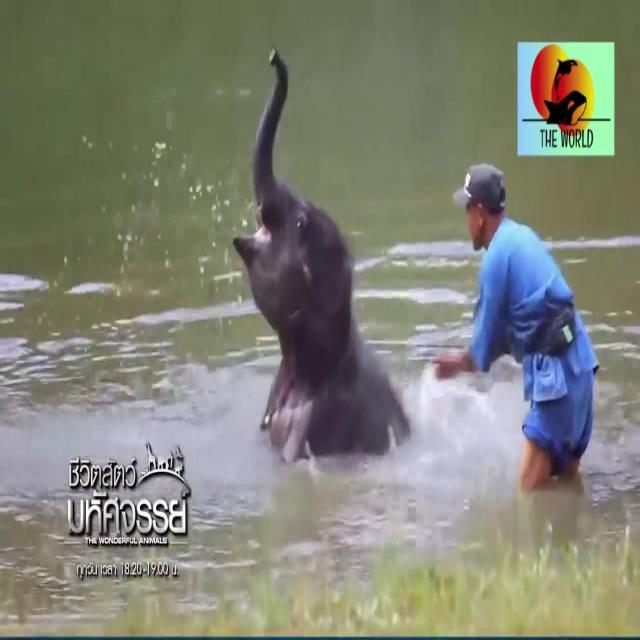Elephant: (221, 53, 414, 472)
